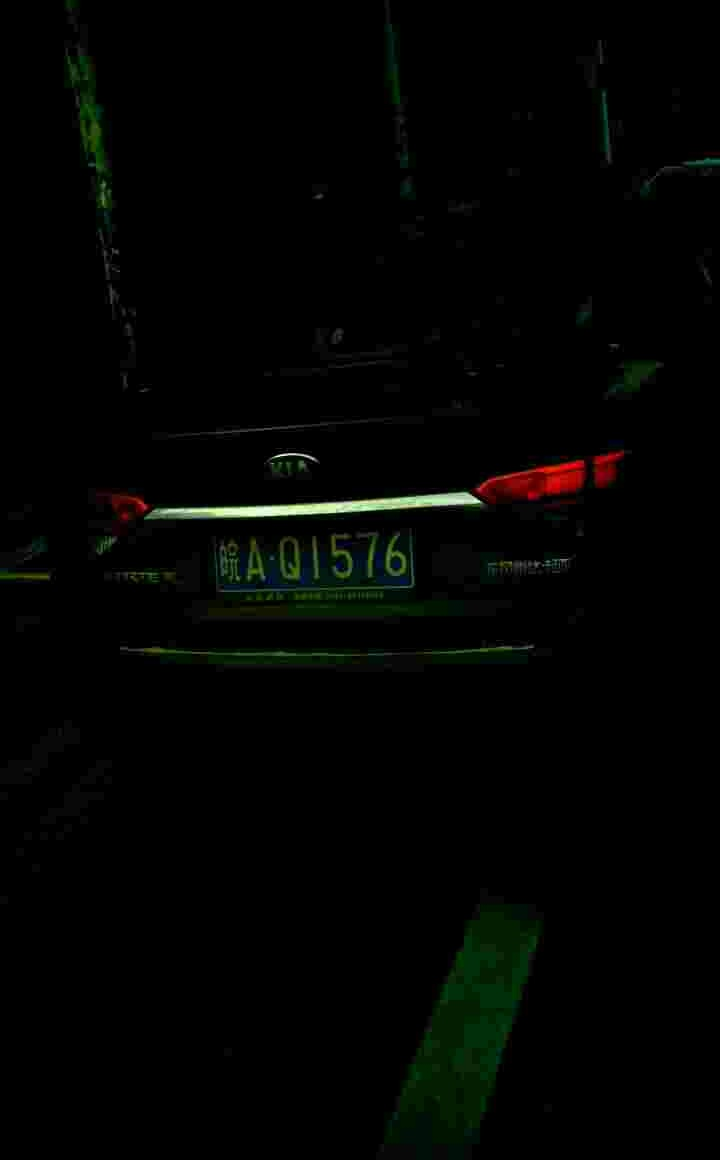license_plate: (206, 525, 414, 587)
